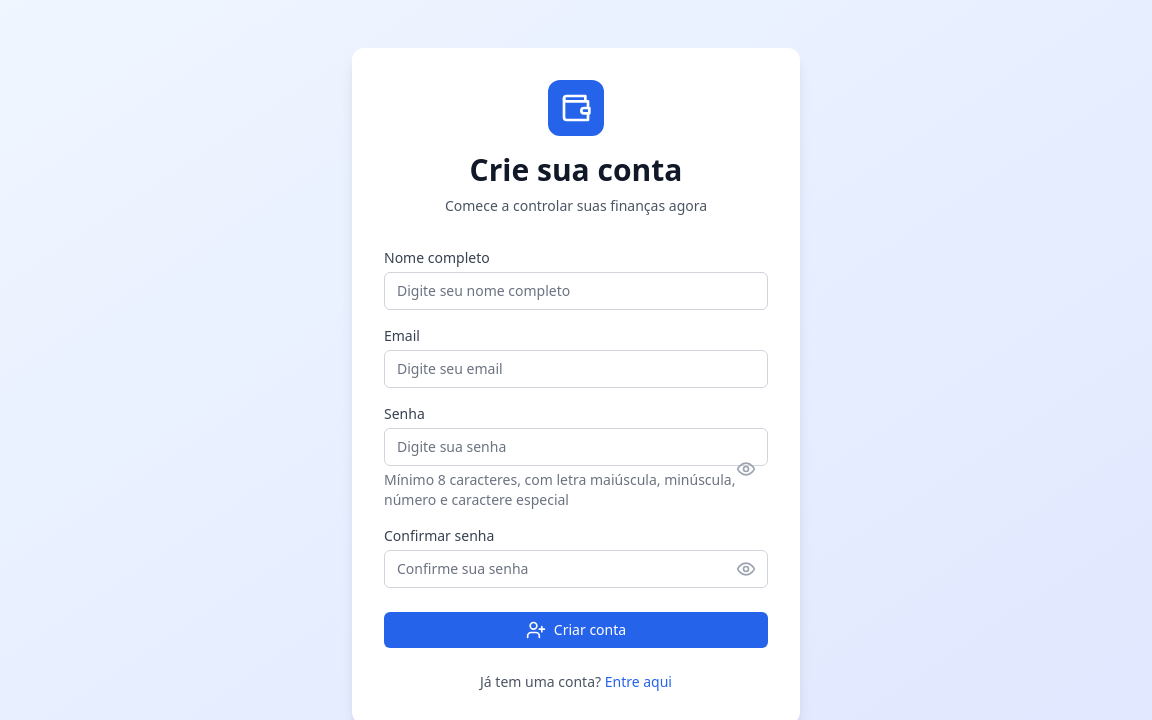
RegisterPage › validates required fields
The image size is (1152, 720).
Click the button "Criar conta" at (576, 630), box [384,612,768,648]
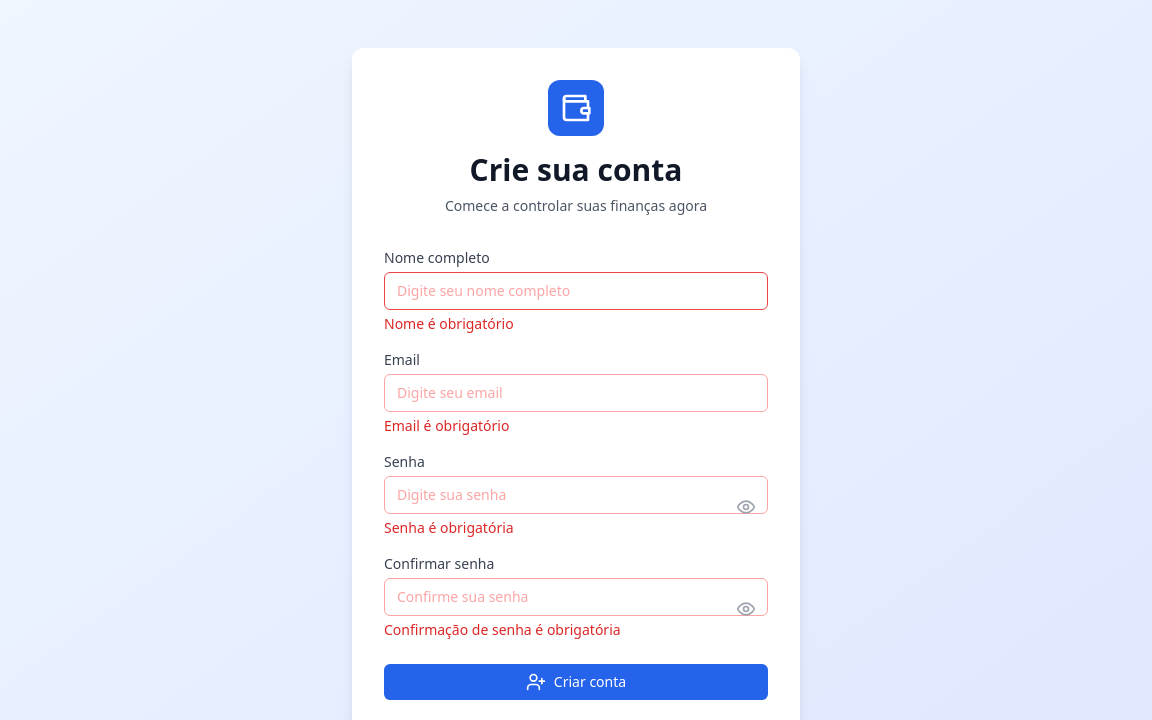
Expected: the text "Nome é obrigatório" is shown, [384,314,514,333]
Expected: the text "Email é obrigatório" is shown, [384,416,510,435]
Expected: the text "Senha é obrigatória" is shown, [384,518,514,537]
